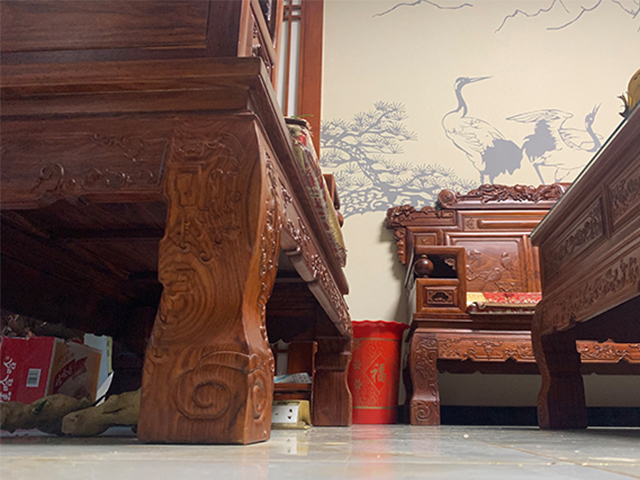sofa: (1, 1, 352, 446), (383, 181, 640, 429)
table: (526, 100, 640, 429)
trashcan: (346, 319, 409, 426)
